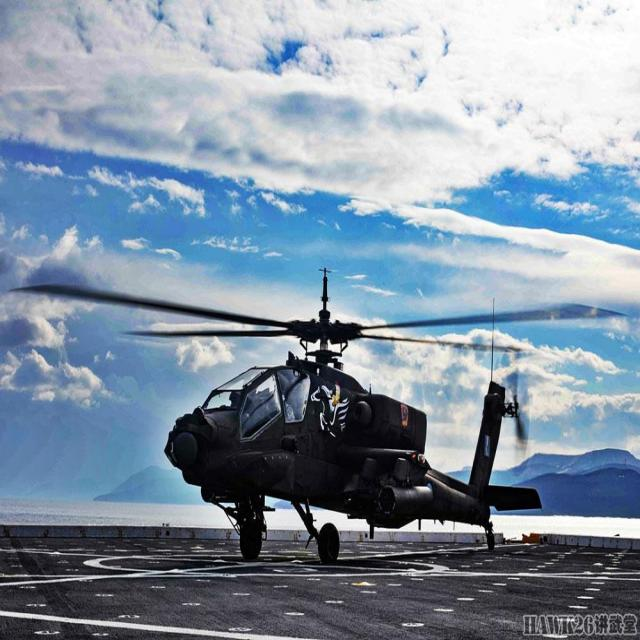MIL_HELO: (12, 257, 628, 560)
